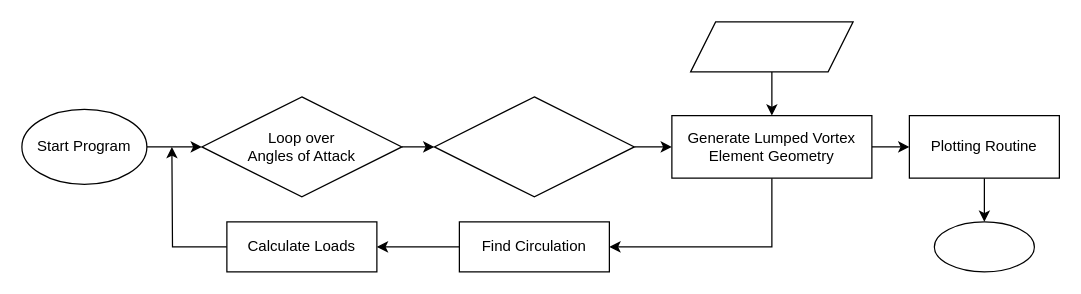
Some shapes in this 1081 by 294 pixel diagram are drawn without their labels. The centre of each missing label's shape, as x and y in pixels:
"End" belongs at pixel 983 246.
"Input Parameters" belongs at pixel 771 46.
"Loop over Camber settings" belongs at pixel 533 146.
